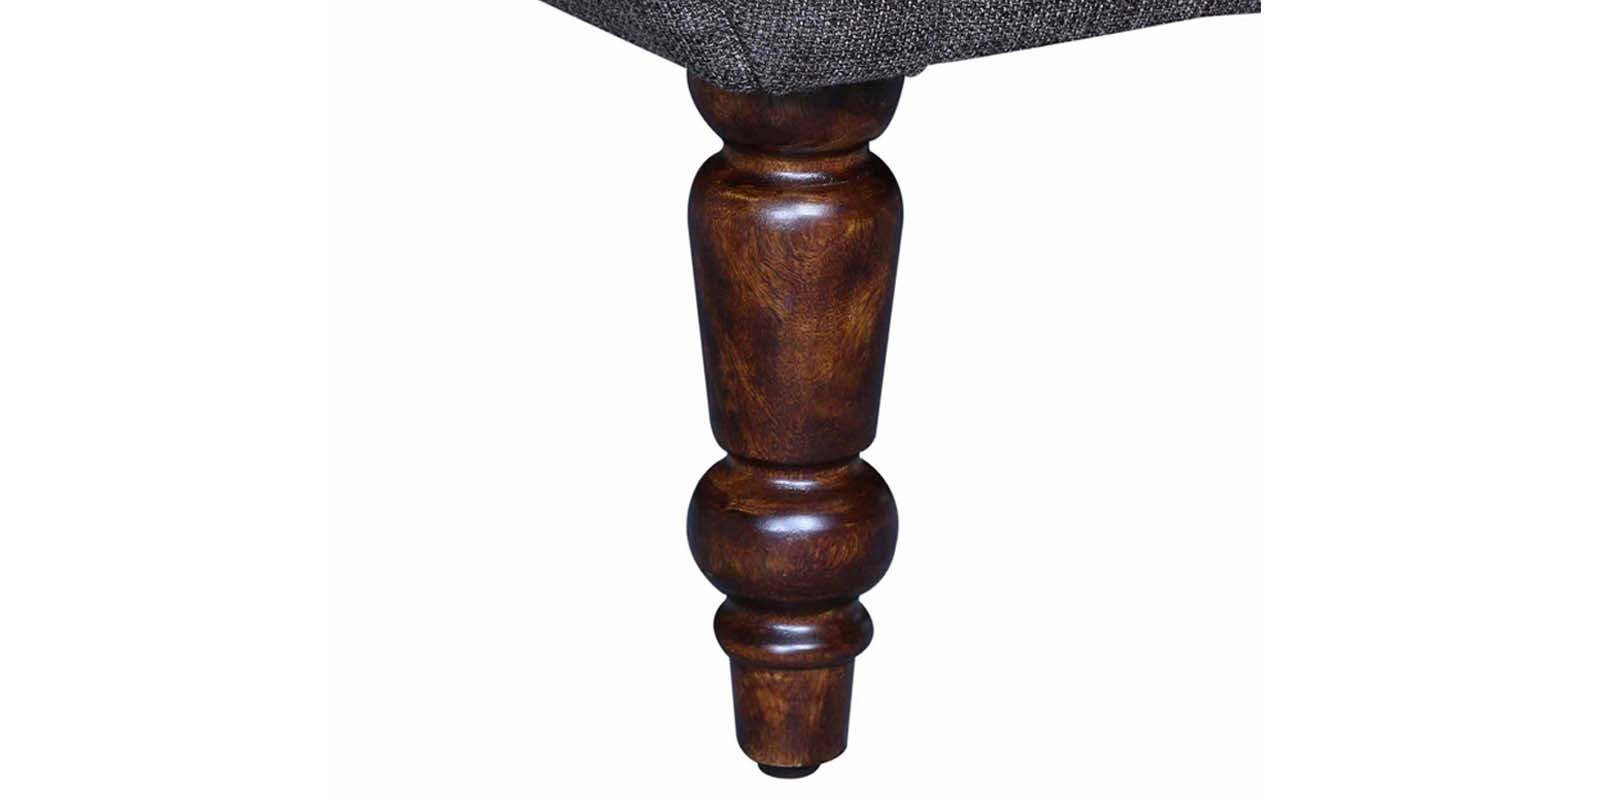Harleston Three Seater Sofa in Provincial Teak Finish by Amberville: (524, 1, 1329, 790)
